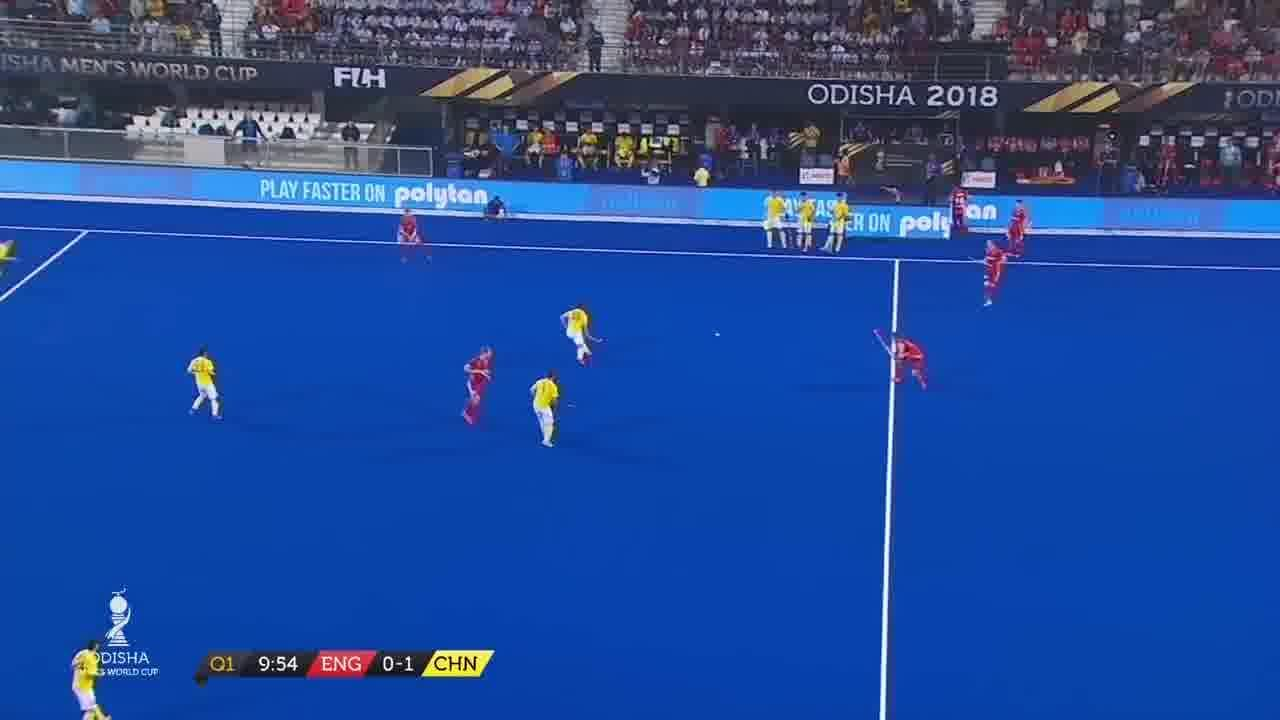ball: (710, 326, 721, 342)
